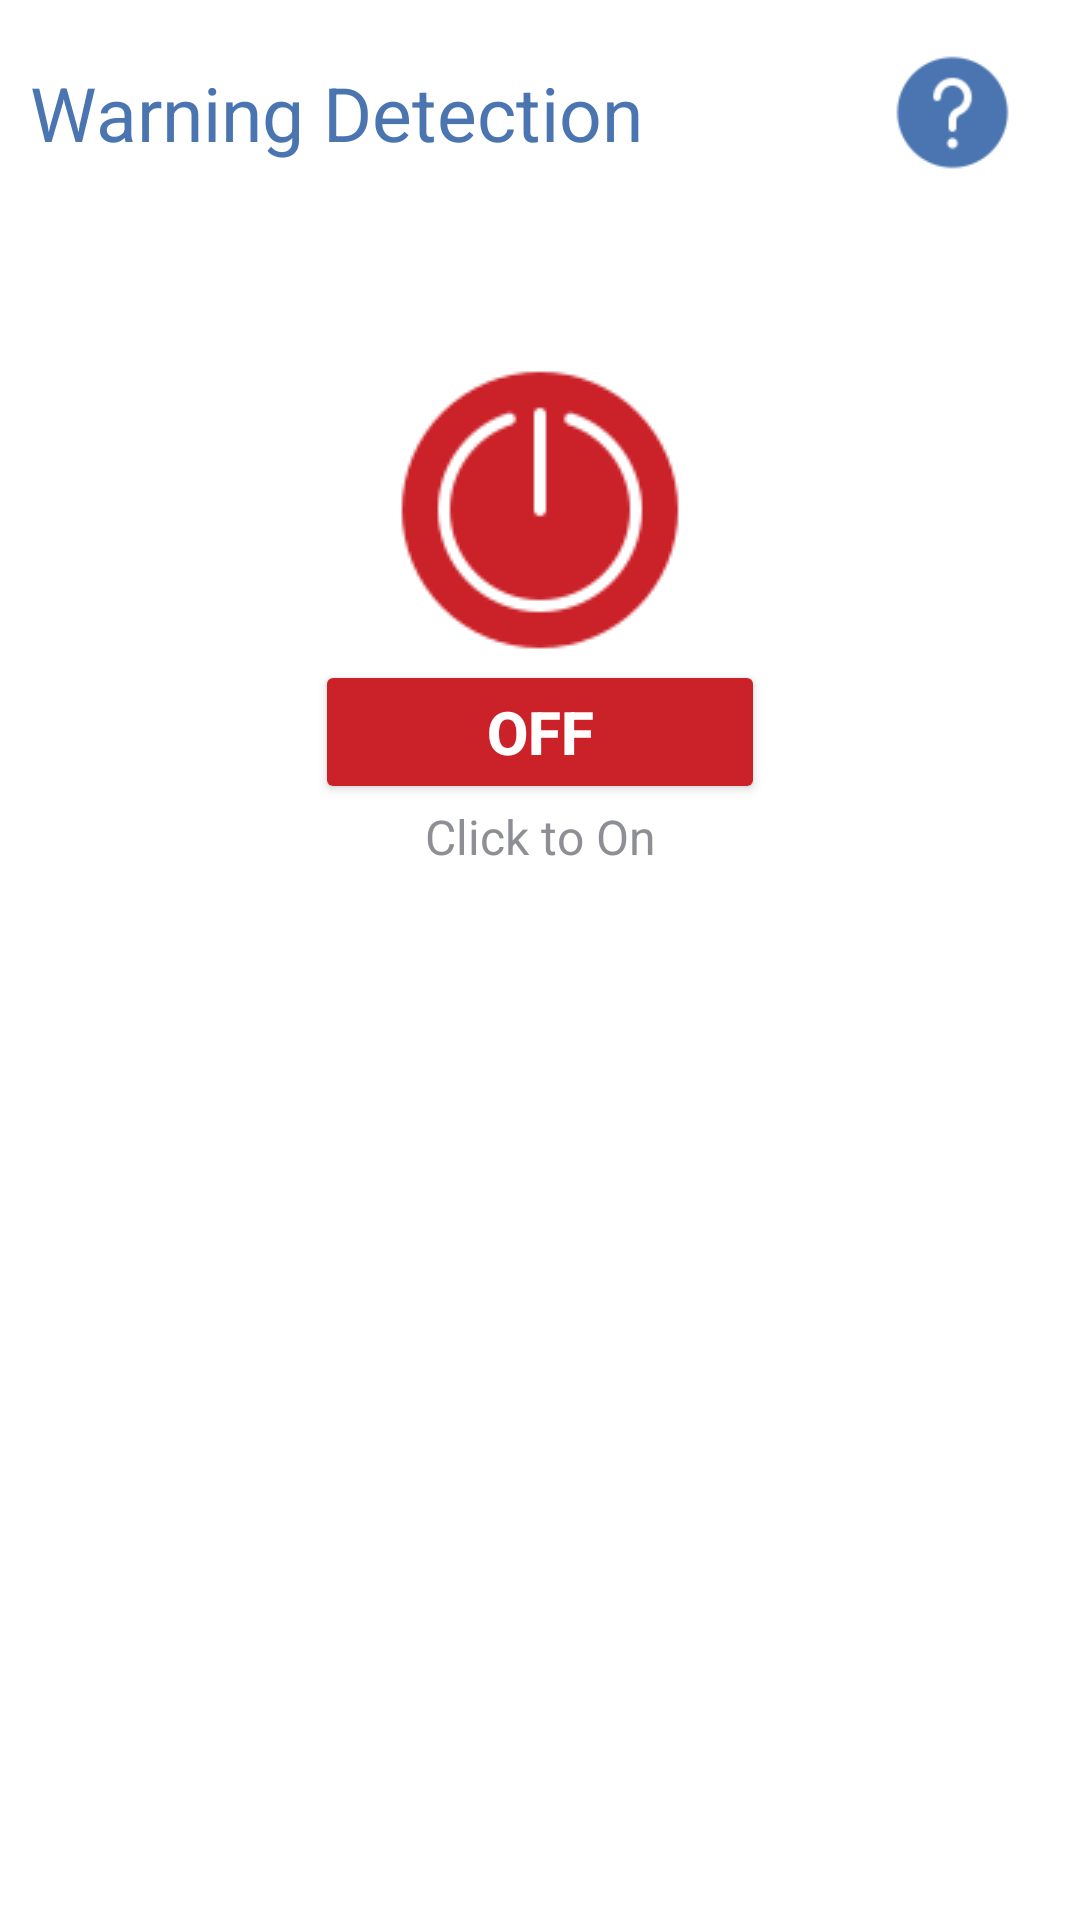

Icons on this 1080 × 1920 Android screen, each with the point to tap as (x=x, y=y):
question mark: (x=952, y=112)
